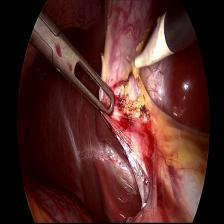Grasper: (32, 9, 121, 124)
Hook: (120, 10, 173, 85)
